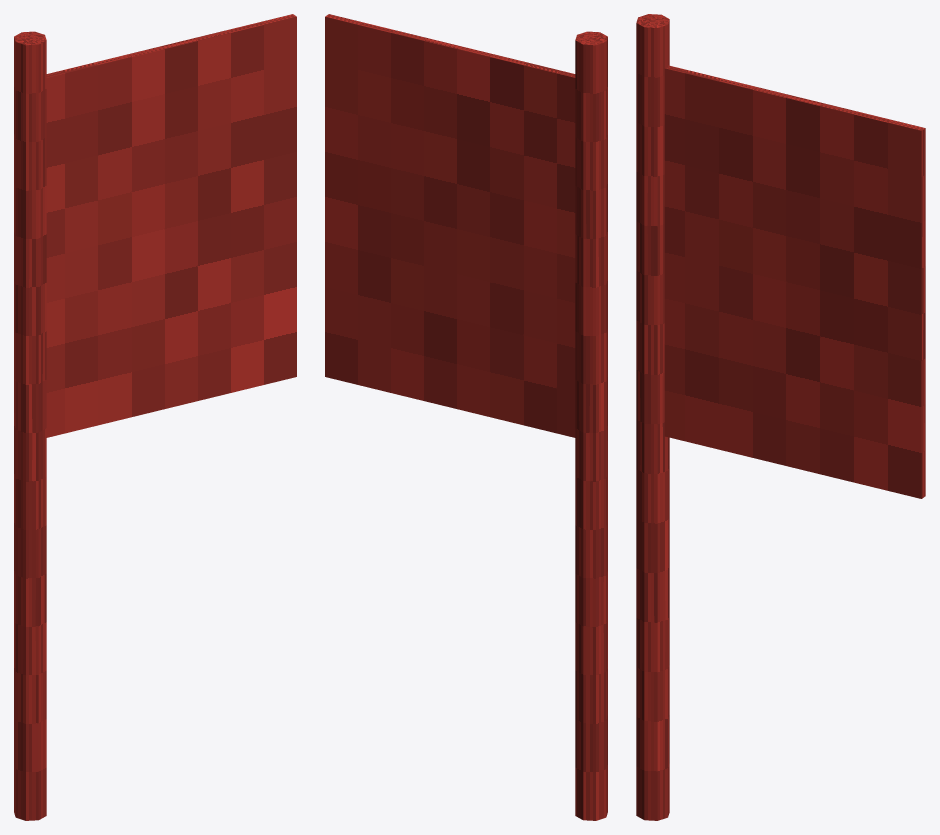
Rendered from banner_26.glb.
3 views of the same model, side by side, from view 1: azimuth 30°, elevation 25°; view 2: azimuth 150°, elevation 25°; view 3: azimuth 330°, elevation 25° (orthographic). The views are drawn at different scales.
Visible parts, largest first — view 1: Cloth, Pole; view 2: Cloth, Pole; view 3: Cloth, Pole.
Boxes of the visible parts, x1,y1,x2,y2 form: Cloth: (46,14,296,437); Pole: (14,31,46,820); Cloth: (325,14,575,437); Pole: (575,31,607,820); Cloth: (664,65,925,498); Pole: (636,14,669,820).
Size of the model in its own units: 1.05 by 2.78 by 0.11.
1 material, 1 textured.
